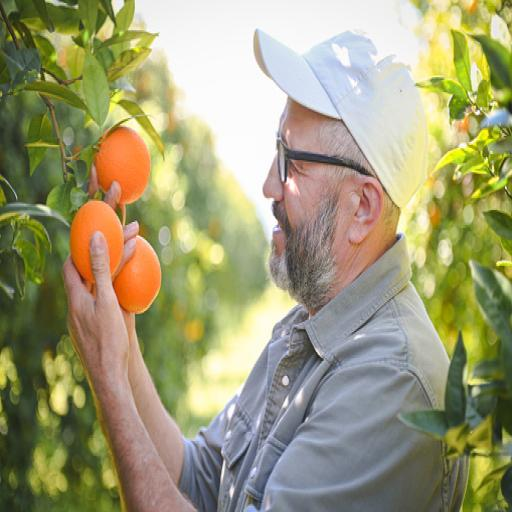orange: (70, 200, 123, 282), (95, 126, 150, 203), (113, 236, 160, 314)
